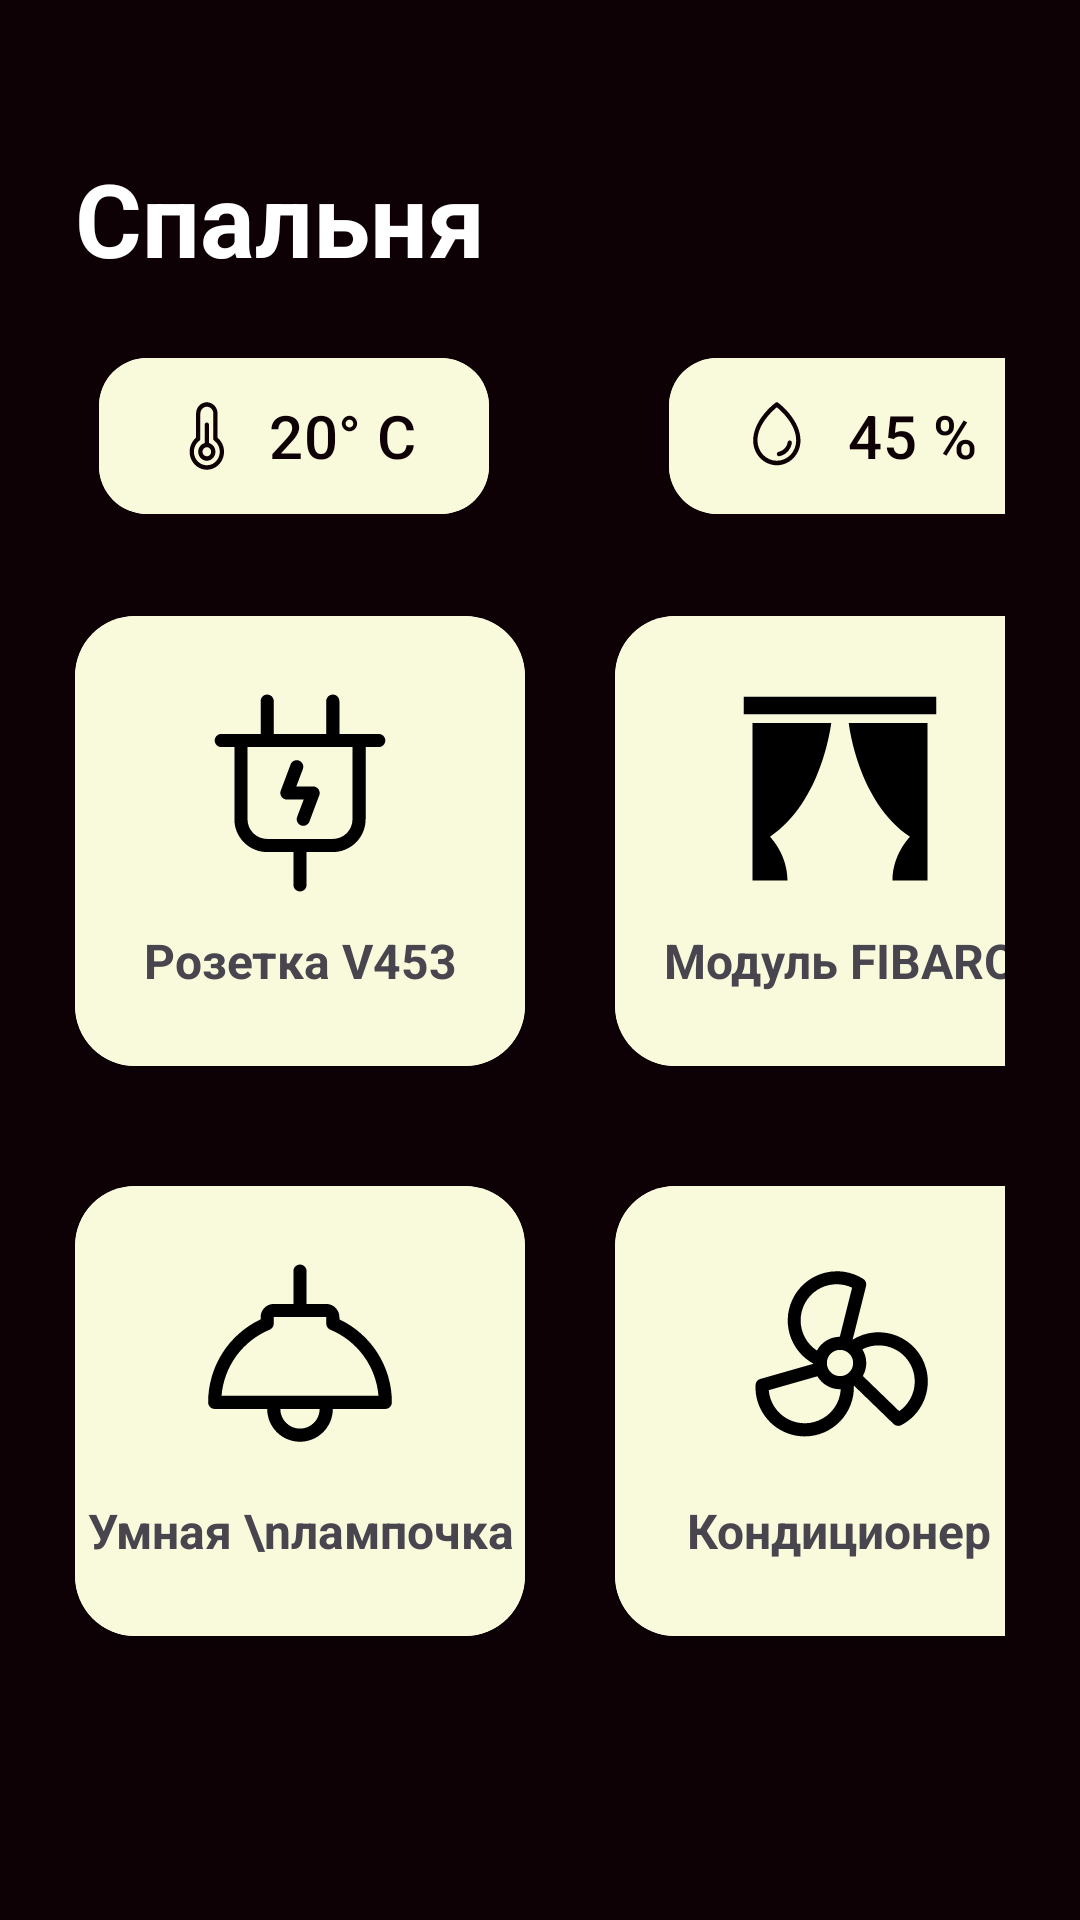

Named icons in this screenshot (1080w x 1920h) and their bounding boxes, [left=x1, top=y1, right=x2, bottom=y2]:
curtains: [left=743, top=696, right=937, bottom=881]
fan: [left=755, top=1271, right=928, bottom=1437]
lamppendant: [left=208, top=1264, right=392, bottom=1442]
plugcharging: [left=214, top=694, right=386, bottom=892]
